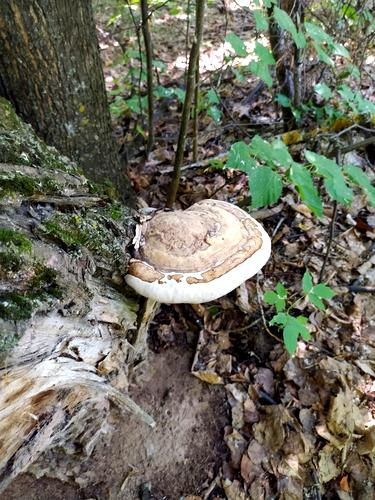Ganoderma - Fruit Body: (122, 198, 272, 304)
